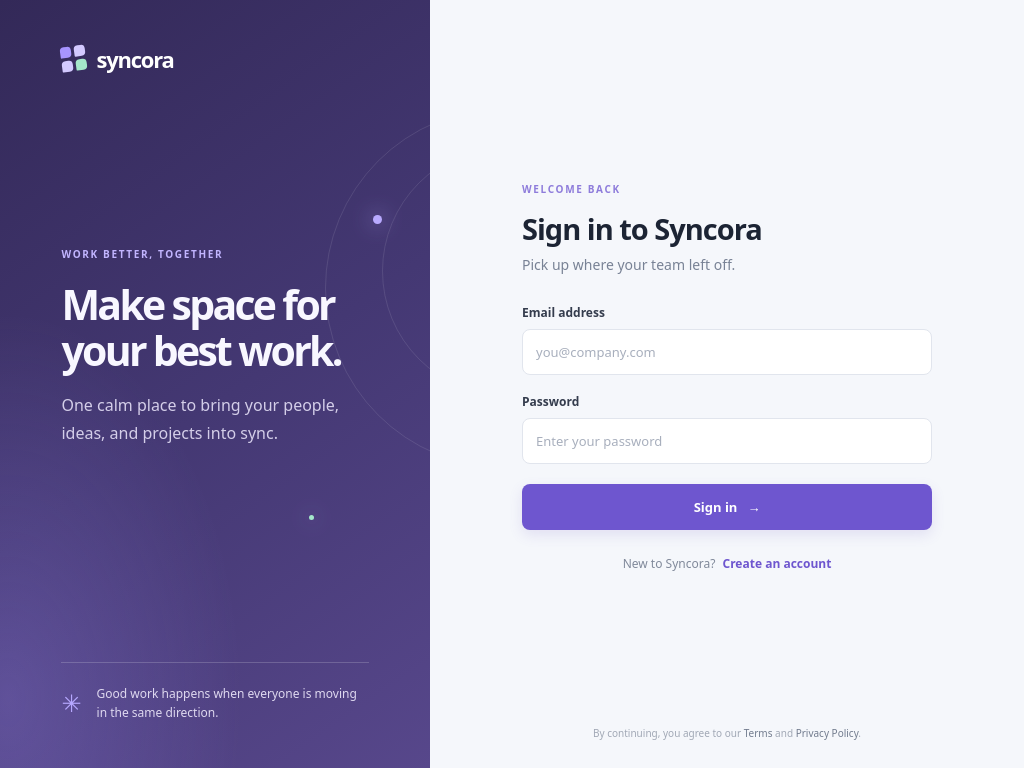
Test: authentication pages and routes › shows login errors and returns to a usable state
In the field labelled "Email address": (727, 352) [522,329,932,375], type "test@example.com"
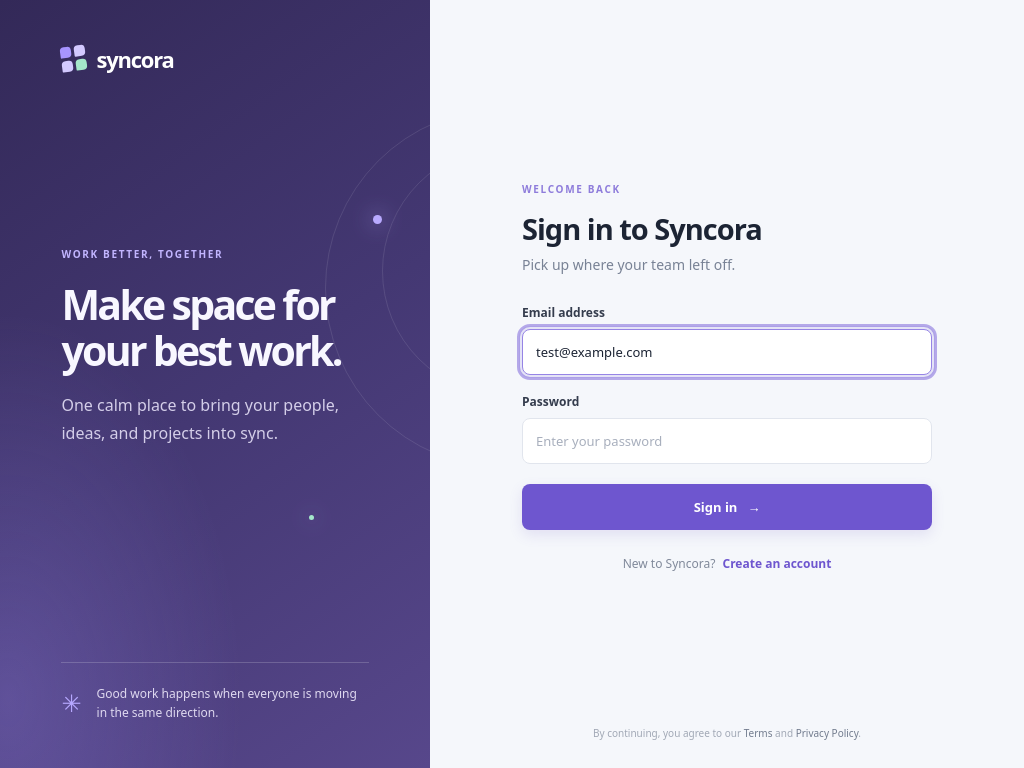
In the password field labelled "Password": (727, 441) [522,418,932,464], type "WrongPassword123"
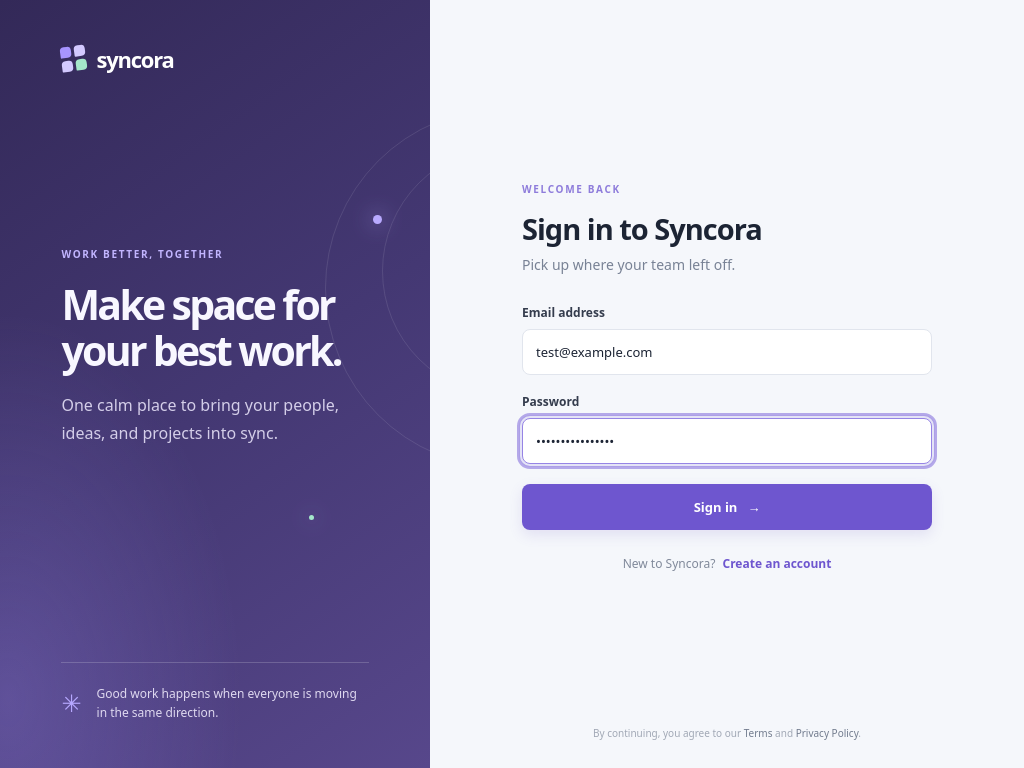
Click the button "Sign in →": (727, 507) [522,484,932,530]
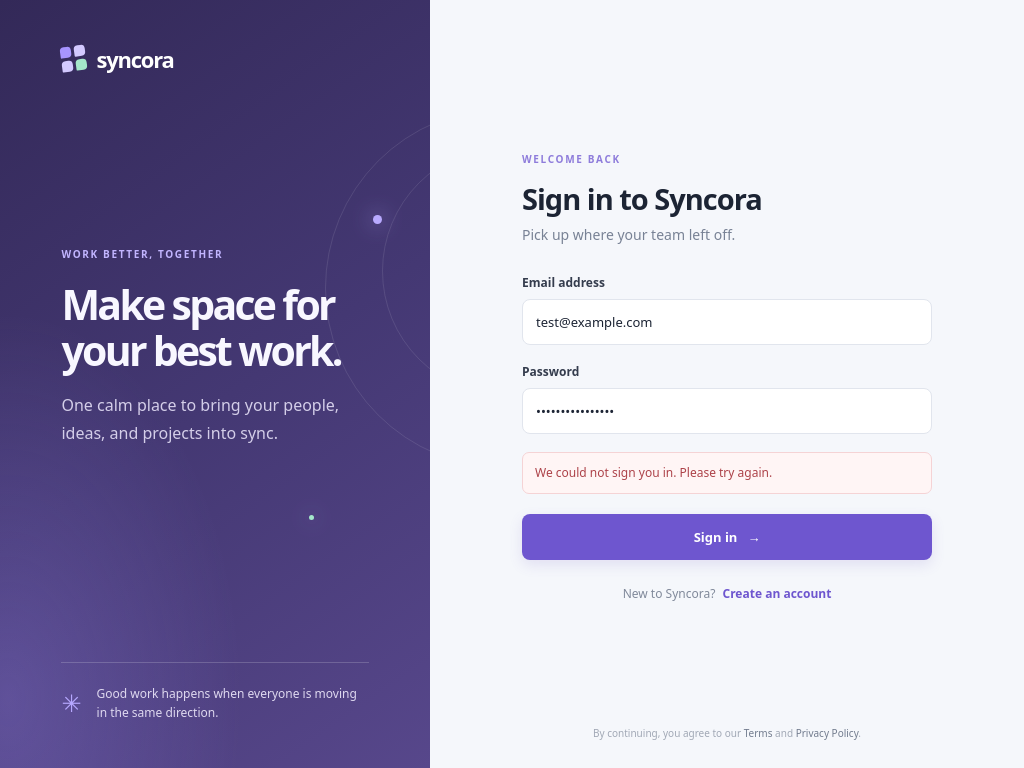
Expected: the button "Sign in →" is enabled, [522,514,932,560]
Now the message shows "We could not sign you in.", box [535,464,772,481]
